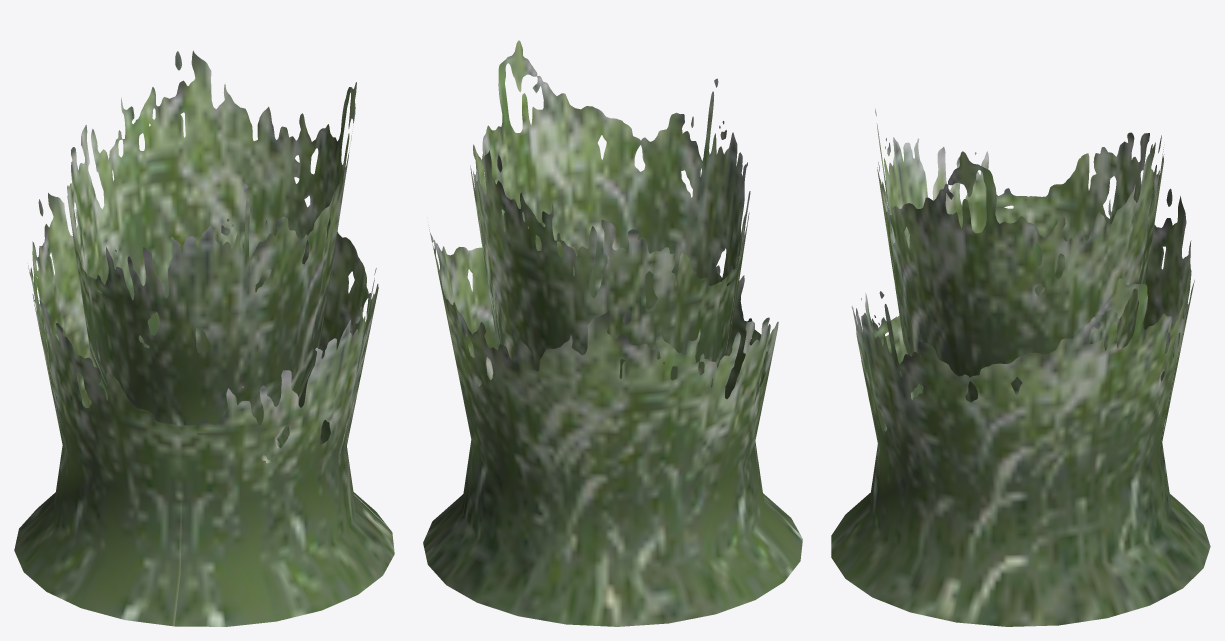
The model's file is RiverCane.fbx.
The picture shows the model from 3 angles, left to right: view 1: azimuth 30°, elevation 25°; view 2: azimuth 150°, elevation 25°; view 3: azimuth 270°, elevation 25°; orthographic projection.
Parts seen in each view (by area): view 1: RiverCane; view 2: RiverCane; view 3: RiverCane.
Part boxes in pixels (x1,y1,x2,y2): RiverCane: [14, 50, 394, 626]; RiverCane: [423, 40, 802, 626]; RiverCane: [831, 108, 1210, 626].
Bounding box in the file's own units: 725 × 983 × 724.
